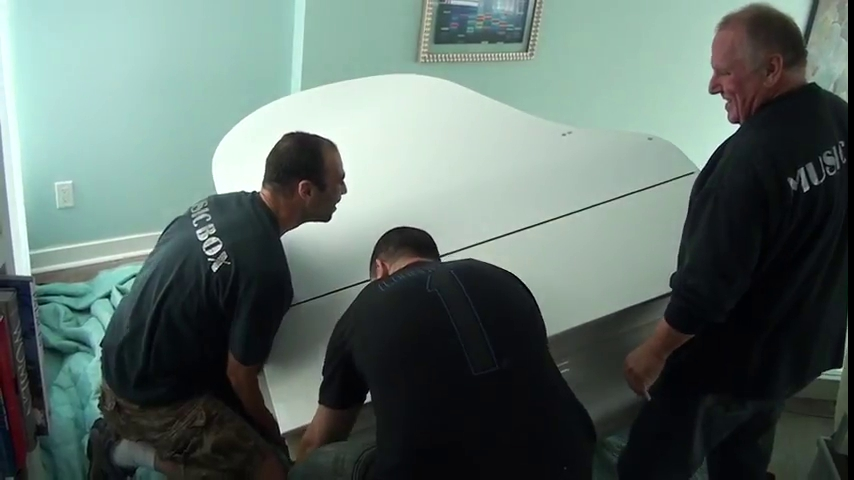person: (617, 4, 849, 479), (88, 132, 347, 478), (295, 226, 596, 478)
